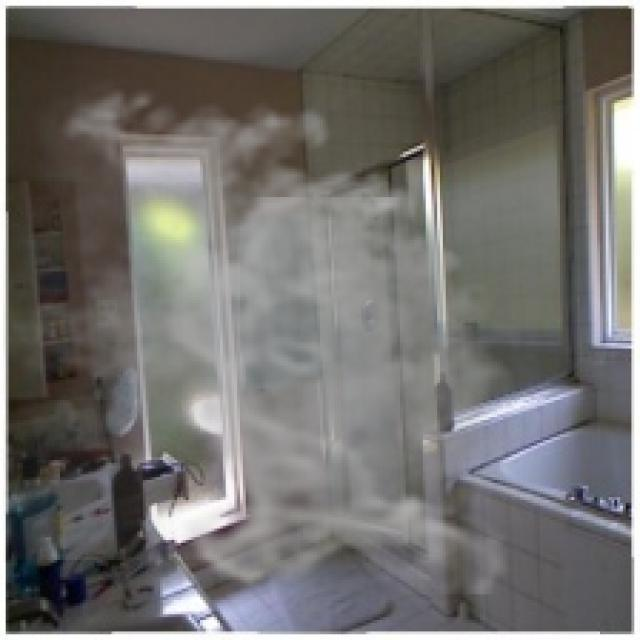Smoke: (2, 75, 534, 594)
